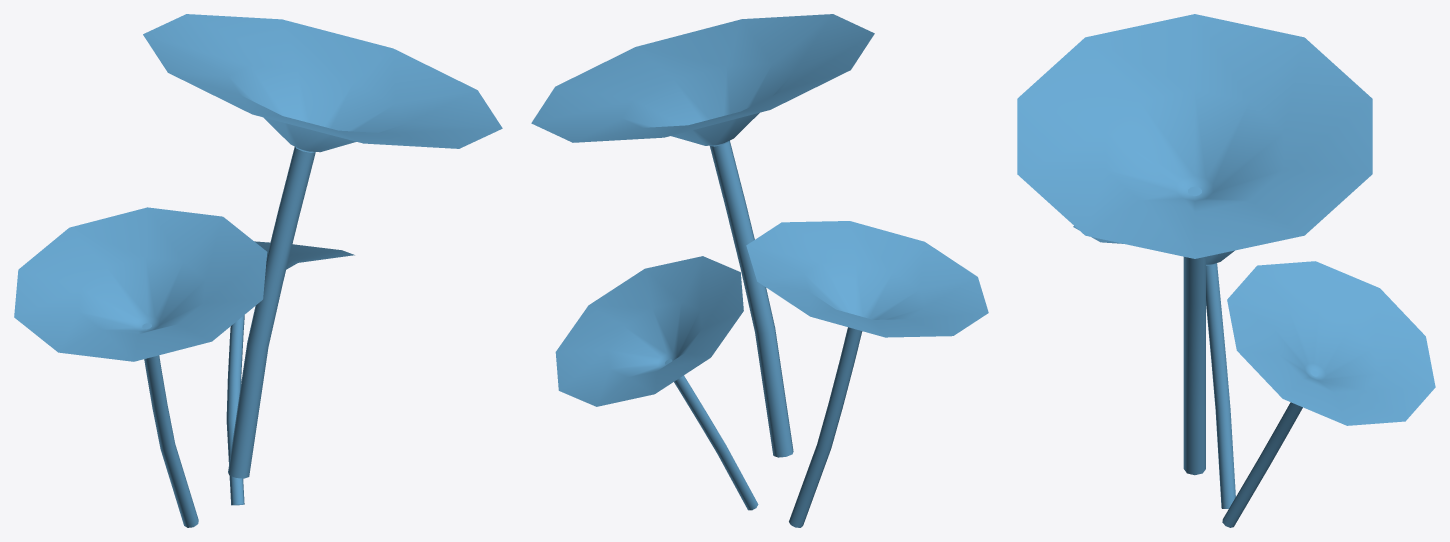
File: Sea_Mushroom.fbx
3 views of the same model, side by side, from view 1: azimuth 30°, elevation 25°; view 2: azimuth 150°, elevation 25°; view 3: azimuth 270°, elevation 25° (orthographic). The views are drawn at different scales.
Parts seen in each view (by area): view 1: Sea_Mushroom; view 2: Sea_Mushroom; view 3: Sea_Mushroom.
Boxes of the visible parts, x1,y1,x2,y2 form: Sea_Mushroom: (14, 14, 502, 527); Sea_Mushroom: (531, 14, 988, 527); Sea_Mushroom: (1017, 14, 1435, 527).
Size of the model in its own units: 1679 by 1730 by 1377.
